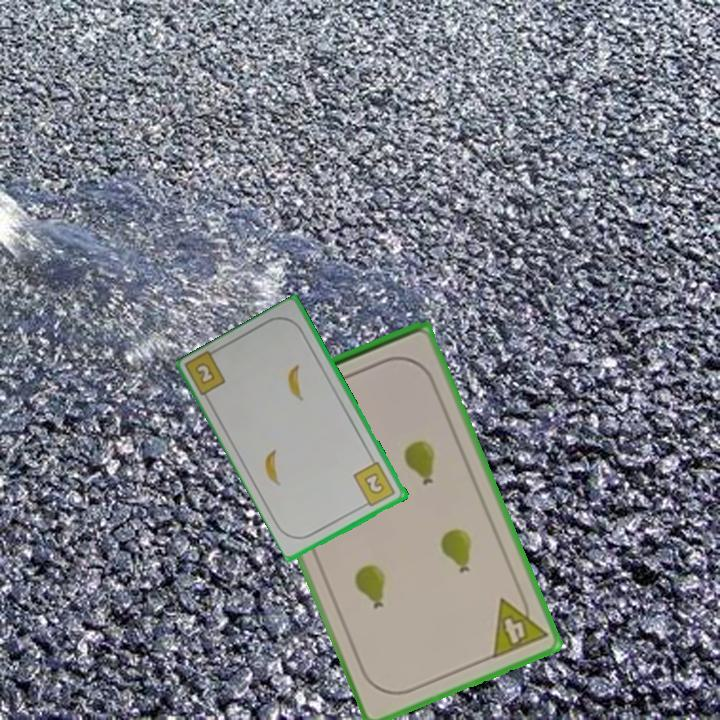2b: (350, 458, 398, 510), (191, 359, 218, 388)
4p: (488, 587, 551, 662)
